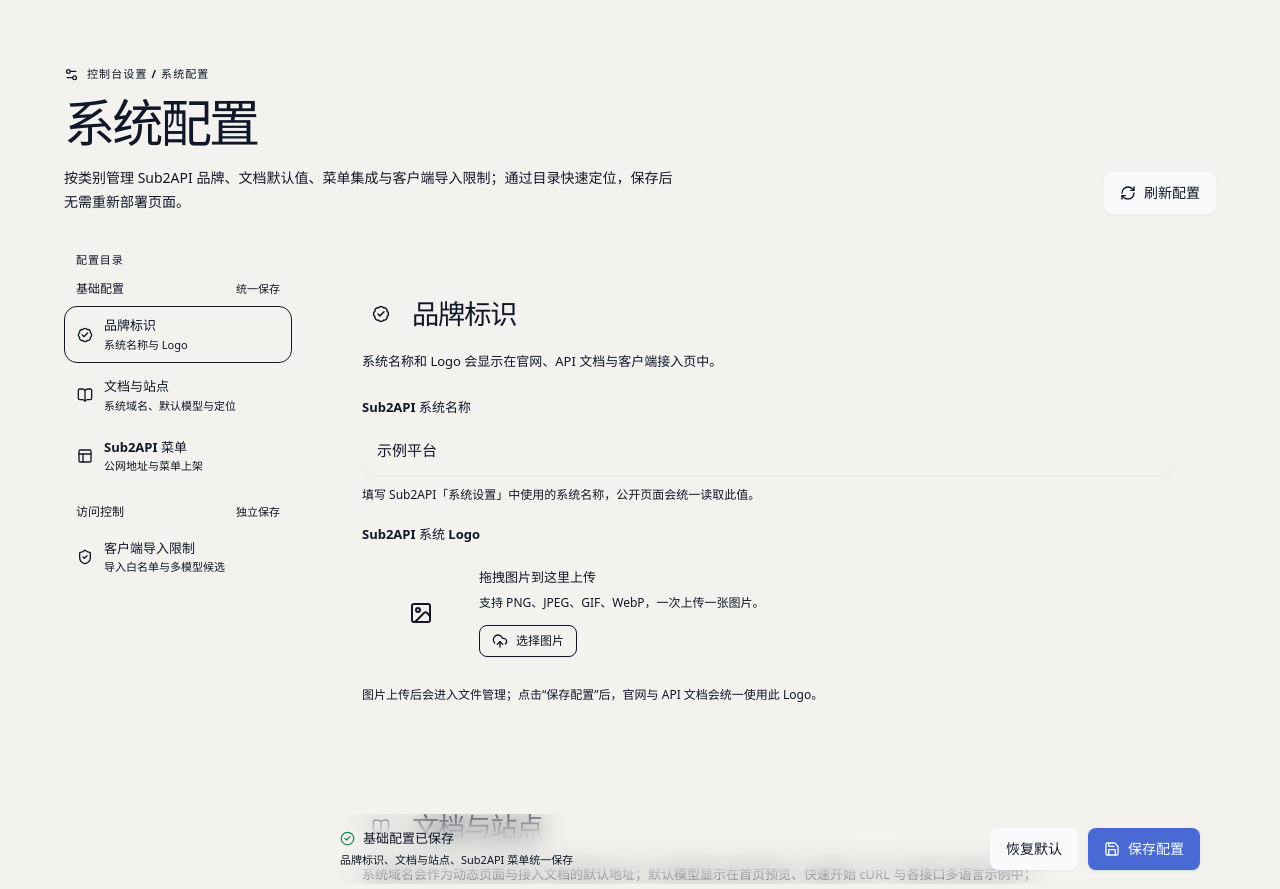
Test case: SystemConfigPage › marks sections with unsaved changes in the table of contents and save bar
This screenshot has width=1280, height=889.
Check: the element named "基础配置保存" shows "基础配置已保存", box [363,829,454,847]
Replace the text in the field labelled "Sub2API 系统名称" with "Example Cloud" at (768, 449), box [362,423,1174,475]
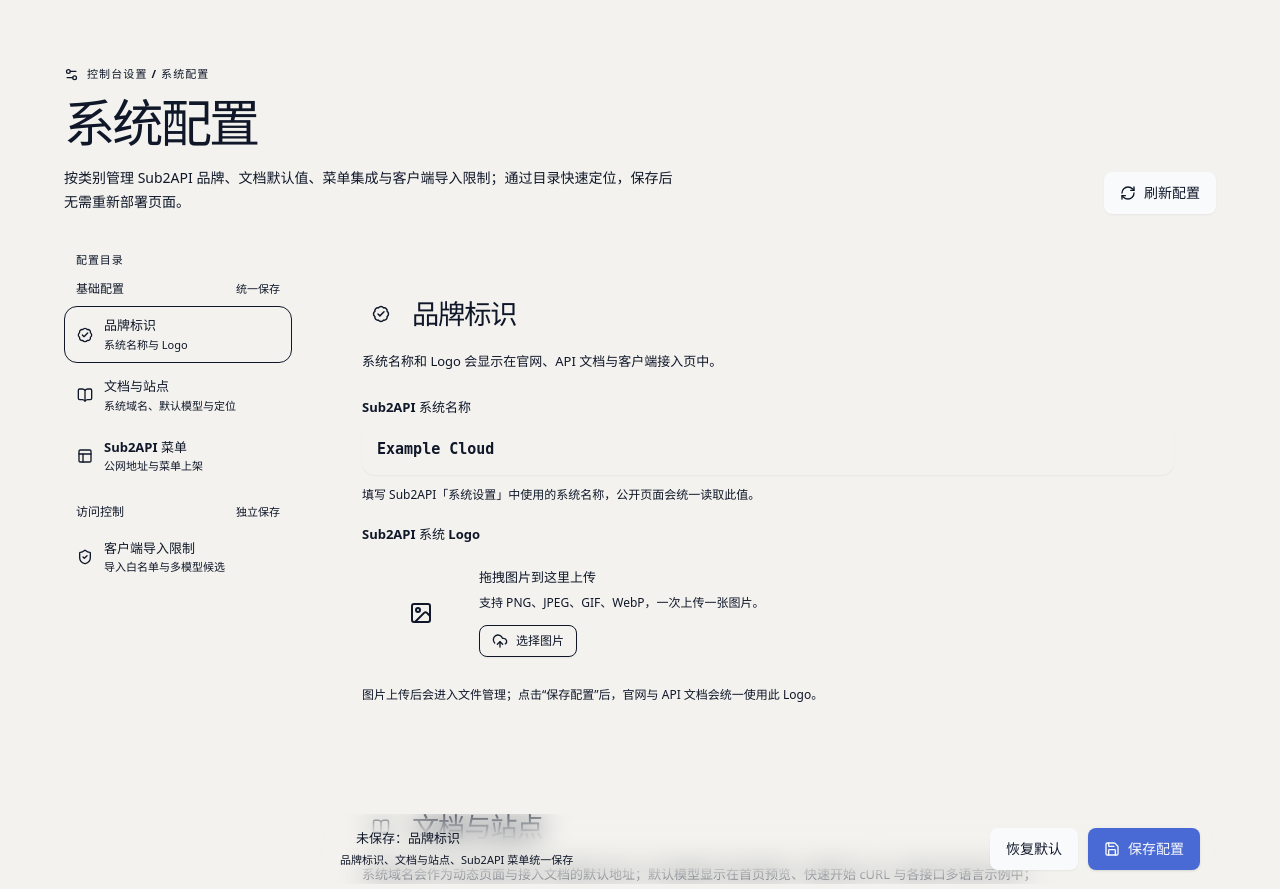
Check: the button with aria-label "品牌标识（有未保存的更改）" is shown, box [64,306,292,363]
Check: the element named "基础配置保存" shows "未保存：品牌标识", box [320,814,1216,884]
